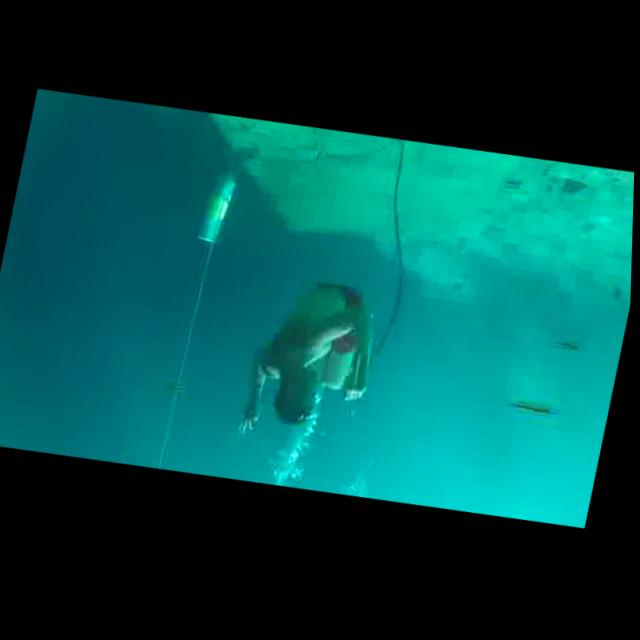human: (225, 262, 399, 464)
